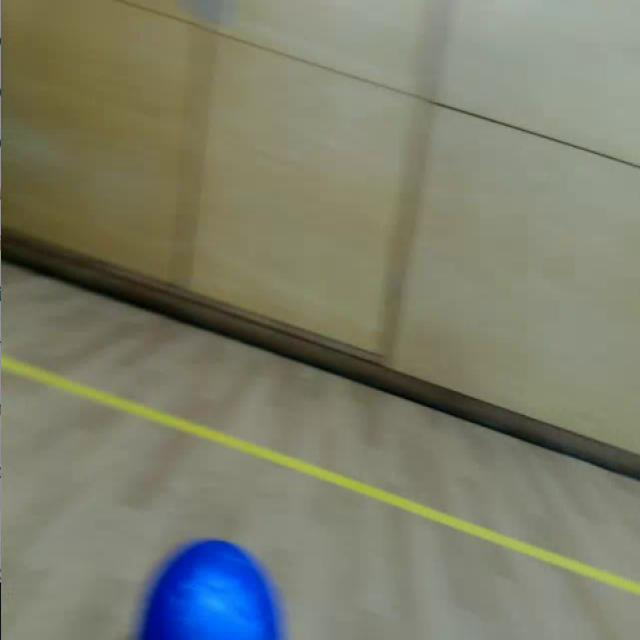blue_ball: (139, 541, 285, 640)
